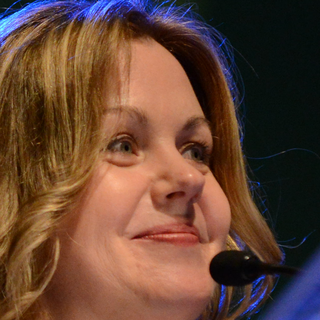eye: (102, 132, 144, 160), (179, 141, 207, 164)
